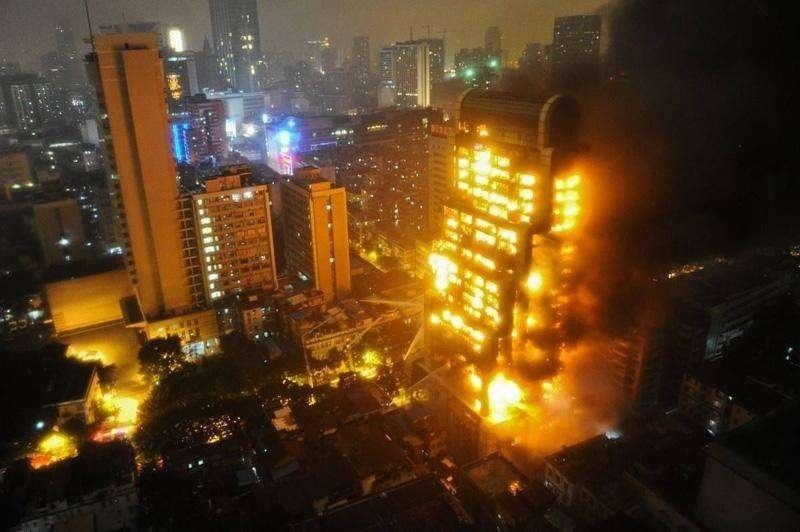fire: (422, 132, 601, 432)
